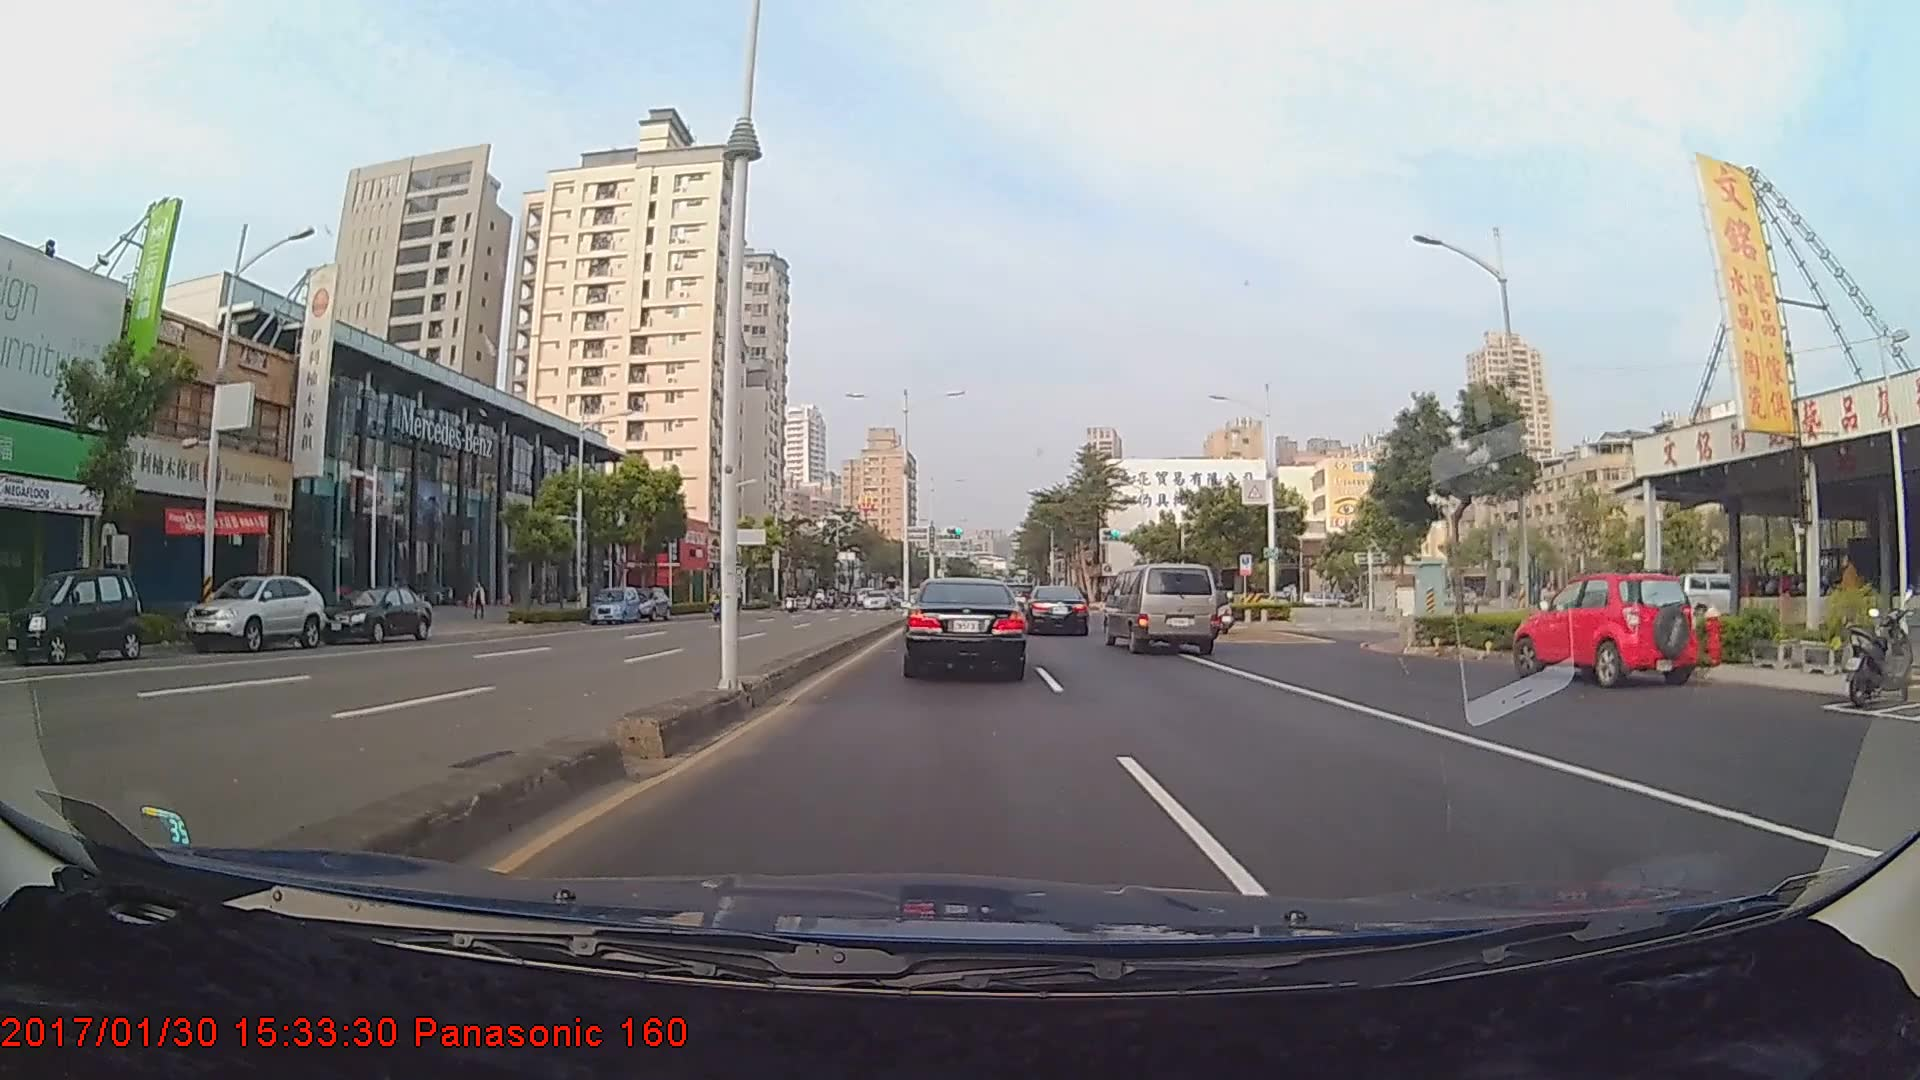pedestrian: (1841, 557, 1864, 636), (469, 579, 489, 621)
vehicle: (1522, 570, 1693, 688), (5, 565, 144, 664), (902, 576, 1025, 679), (181, 570, 321, 650), (1103, 562, 1217, 653), (317, 585, 432, 643), (1024, 584, 1090, 638), (589, 585, 641, 623), (627, 586, 666, 621), (862, 586, 891, 608)
